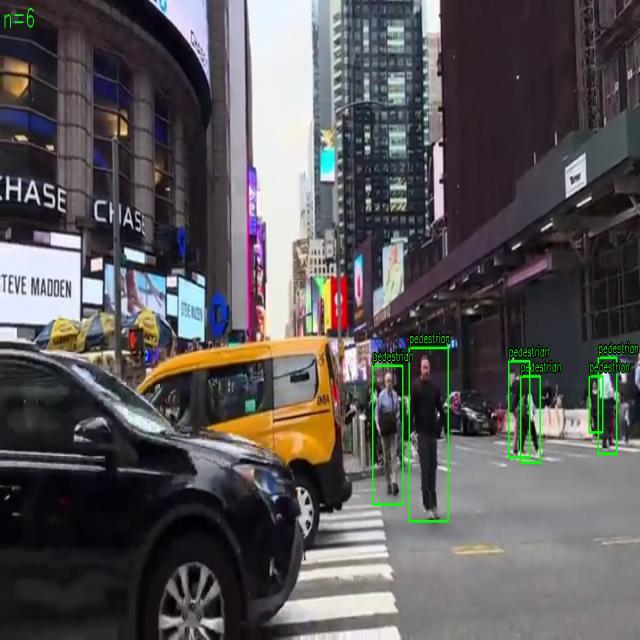with scooter: (409, 348, 449, 522), (373, 365, 403, 505), (508, 361, 530, 458), (598, 358, 617, 454), (520, 376, 540, 463), (589, 376, 603, 433)
